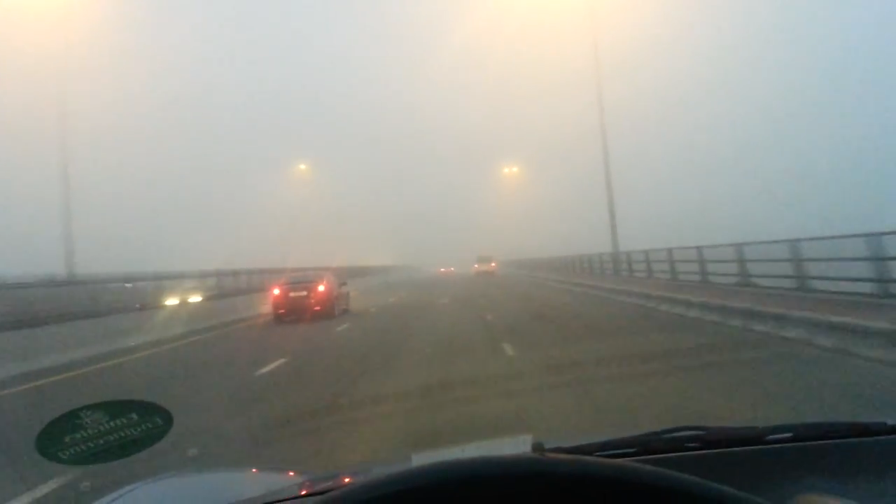car: (266, 268, 352, 323), (472, 252, 497, 278), (437, 264, 458, 276)
